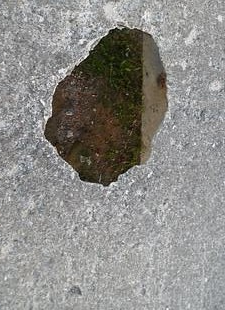Spalling: (43, 25, 169, 187)
